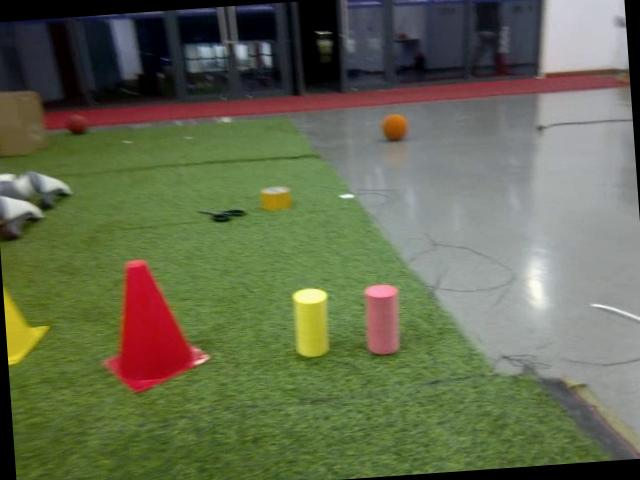orange_ball: (378, 110, 411, 144)
red_ball: (64, 111, 91, 136)
red_barrel: (94, 251, 212, 398)
red_cylinder: (359, 280, 402, 358)
yellow_cylinder: (290, 284, 332, 360)
